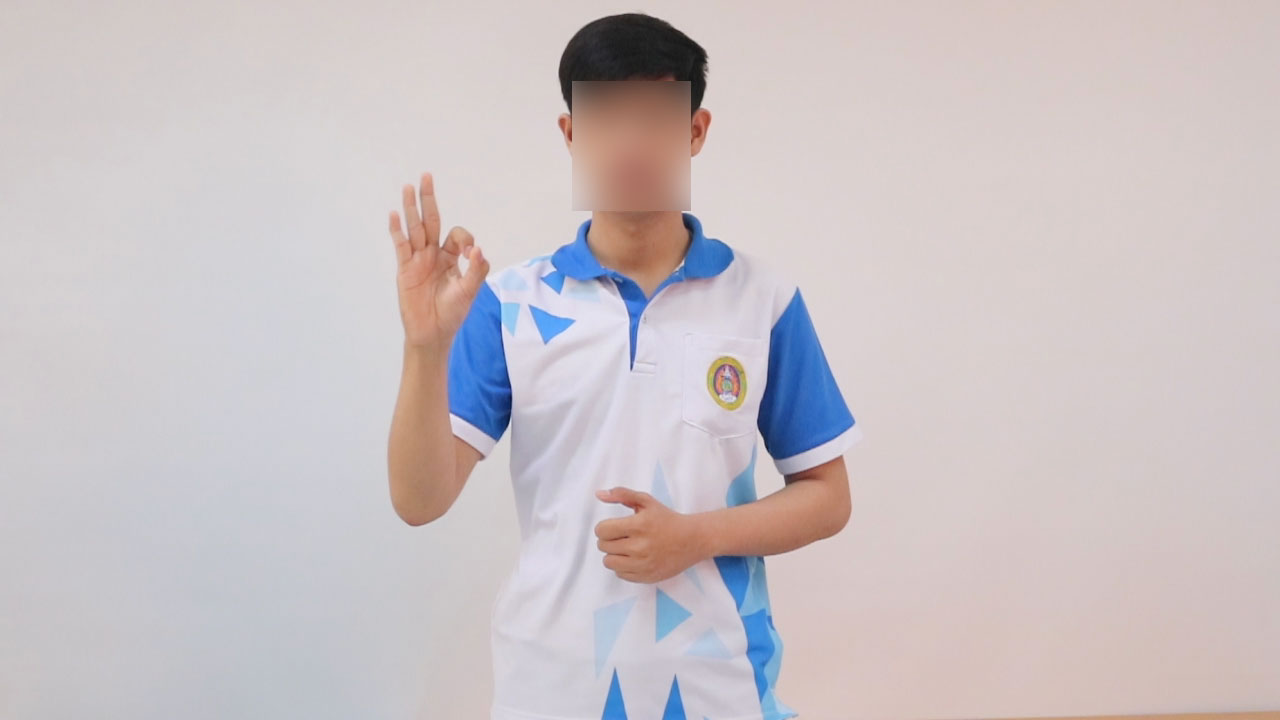for: (385, 162, 495, 360)
